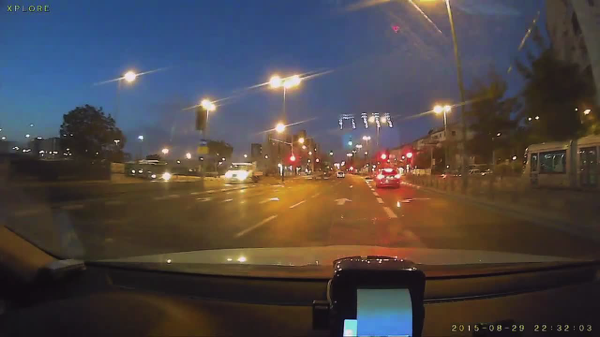bus: (521, 134, 598, 192)
car: (376, 167, 401, 188), (440, 171, 457, 180), (478, 169, 492, 176), (160, 173, 172, 181), (370, 170, 380, 179), (466, 169, 478, 176), (336, 171, 345, 180), (292, 176, 303, 183), (313, 176, 322, 181), (305, 176, 313, 181), (324, 176, 330, 179)
person: (335, 172, 339, 181)
traffic light: (404, 152, 412, 159), (289, 155, 296, 162), (380, 153, 386, 160)
truck: (225, 163, 264, 184)
